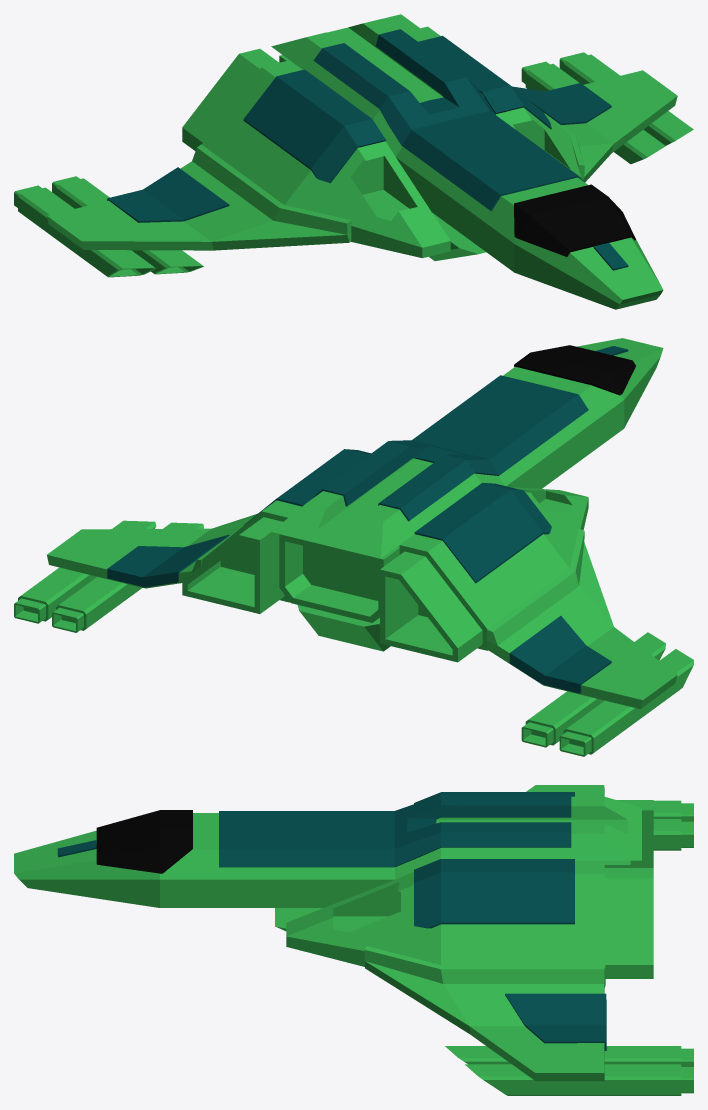
The model's file is spaceship1.fbx.
The picture shows the model from 3 angles, top to bottom: view 1: azimuth 30°, elevation 25°; view 2: azimuth 150°, elevation 25°; view 3: azimuth 270°, elevation 25°; orthographic projection.
Parts seen in each view (by area): view 1: Thrusters Body, Wings, Fuselage, Decals Fuselage, Decals Body, Decals Wings, Cockpit, Thrusters Wings Outer, Thrusters Wings Inner, Undercarriage, Decals Nose; view 2: Thrusters Body, Fuselage, Wings, Decals Fuselage, Decals Body, Decals Wings, Thruster Center, Thrusters Wings Outer, Thrusters Wings Inner, Cockpit, Undercarriage; view 3: Thrusters Body, Fuselage, Decals Fuselage, Wings, Decals Body, Thrusters Wings Outer, Cockpit, Decals Wings, Thrusters Wings Inner, Undercarriage.
Part boxes in pixels (x1,y1,x2,y2): Thrusters Body: (182, 14, 580, 258); Wings: (47, 70, 677, 250); Fuselage: (271, 18, 663, 309); Decals Fuselage: (313, 29, 584, 211); Decals Body: (243, 35, 551, 183); Decals Wings: (107, 83, 611, 222); Cockpit: (514, 184, 635, 256); Thrusters Wings Outer: (14, 52, 693, 277); Thrusters Wings Inner: (52, 61, 665, 274); Undercarriage: (429, 213, 485, 261); Decals Nose: (593, 242, 628, 270); Thrusters Body: (182, 487, 588, 662); Fuselage: (271, 338, 663, 558); Wings: (47, 513, 677, 709); Decals Fuselage: (313, 375, 588, 521); Decals Body: (243, 449, 551, 583); Decals Wings: (107, 534, 611, 693); Thruster Center: (279, 534, 399, 622); Thrusters Wings Outer: (14, 520, 693, 756); Thrusters Wings Inner: (52, 522, 665, 747); Cockpit: (514, 345, 635, 395); Undercarriage: (297, 605, 390, 651); Thrusters Body: (286, 794, 653, 978); Fuselage: (14, 796, 641, 907); Decals Fuselage: (219, 794, 571, 867); Wings: (364, 785, 605, 1081); Decals Body: (414, 792, 574, 928); Thrusters Wings Outer: (465, 800, 693, 1095); Cockpit: (96, 810, 192, 873); Decals Wings: (505, 993, 606, 1050); Thrusters Wings Inner: (445, 819, 693, 1066); Undercarriage: (275, 908, 322, 931).
Bounding box in the file's own units: 1085 × 254 × 1083.
